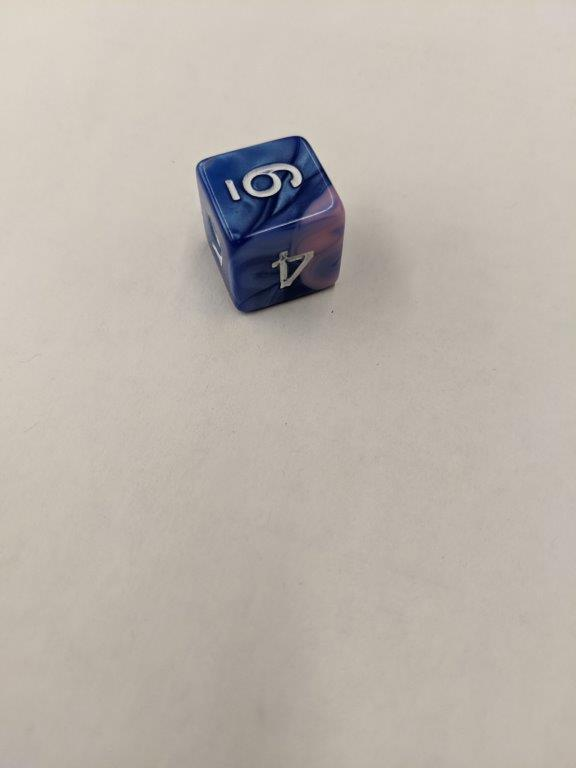d6-6: (197, 135, 347, 309)
